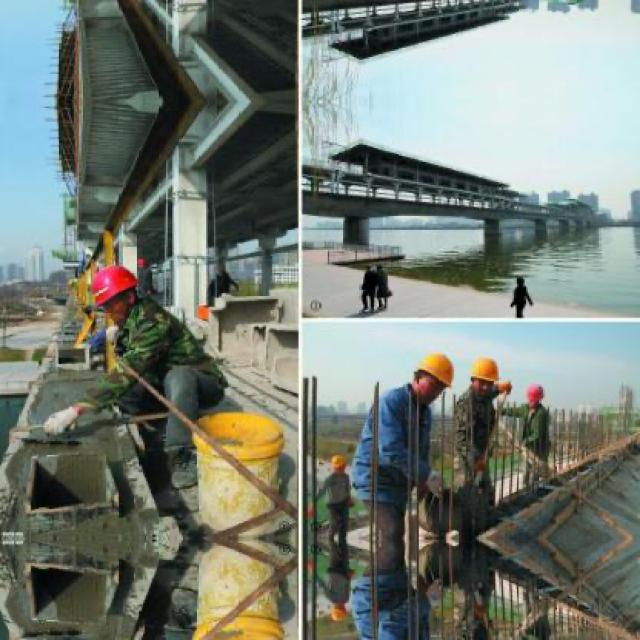con casco: (84, 242, 188, 340), (401, 346, 459, 424), (460, 344, 503, 410), (499, 380, 547, 414)
